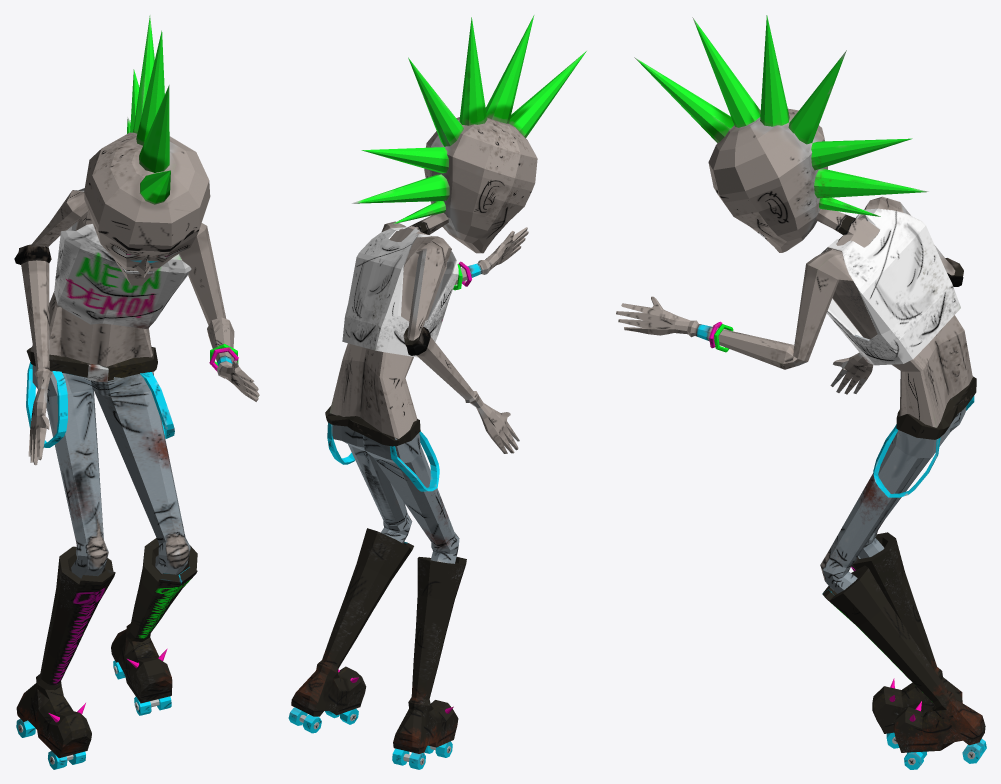
Rendered from punkAnimation_000023.obj.
3 renders of one model, left to right at view 1: azimuth 30°, elevation 25°; view 2: azimuth 150°, elevation 25°; view 3: azimuth 270°, elevation 25°, orthographic. The views are drawn at different scales.
Parts seen in each view (by area): view 1: Cube.004_Cube.003; view 2: Cube.004_Cube.003; view 3: Cube.004_Cube.003.
Boxes of the visible parts, box(x1,y1,x2,y2) form: Cube.004_Cube.003: box(14, 15, 259, 769); Cube.004_Cube.003: box(288, 15, 586, 769); Cube.004_Cube.003: box(616, 15, 986, 769).
Bounding box in the file's own units: 1.71 × 6.89 × 3.12.
